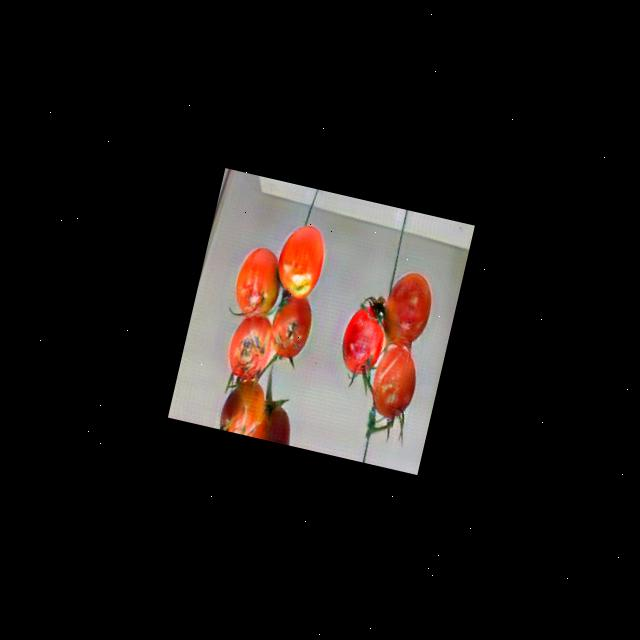tomato: (376, 266, 442, 348), (269, 218, 331, 300), (365, 342, 429, 419), (230, 242, 284, 318), (335, 301, 387, 379), (222, 311, 274, 381), (264, 295, 317, 363), (214, 376, 268, 436)
